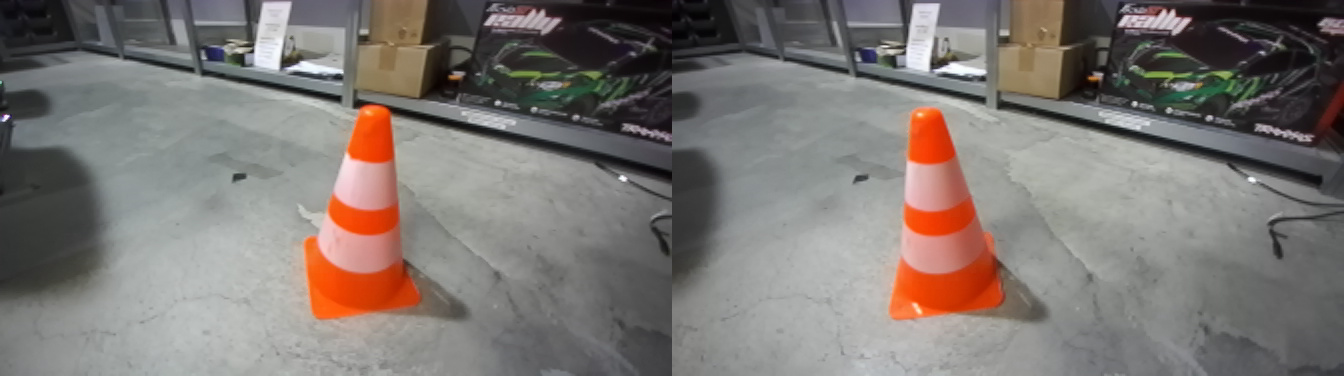cone: (884, 108, 1012, 326), (304, 111, 425, 331)
